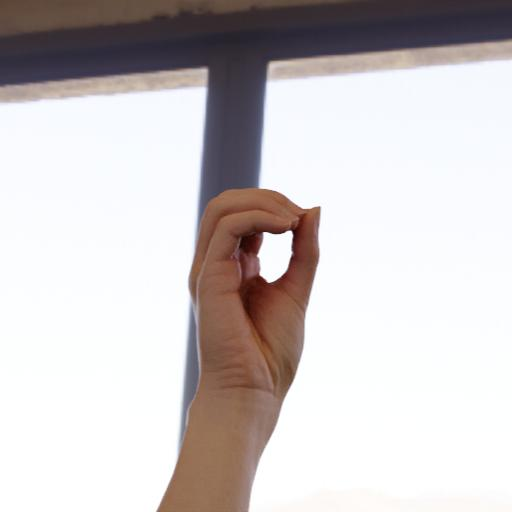O: (180, 182, 323, 395)
